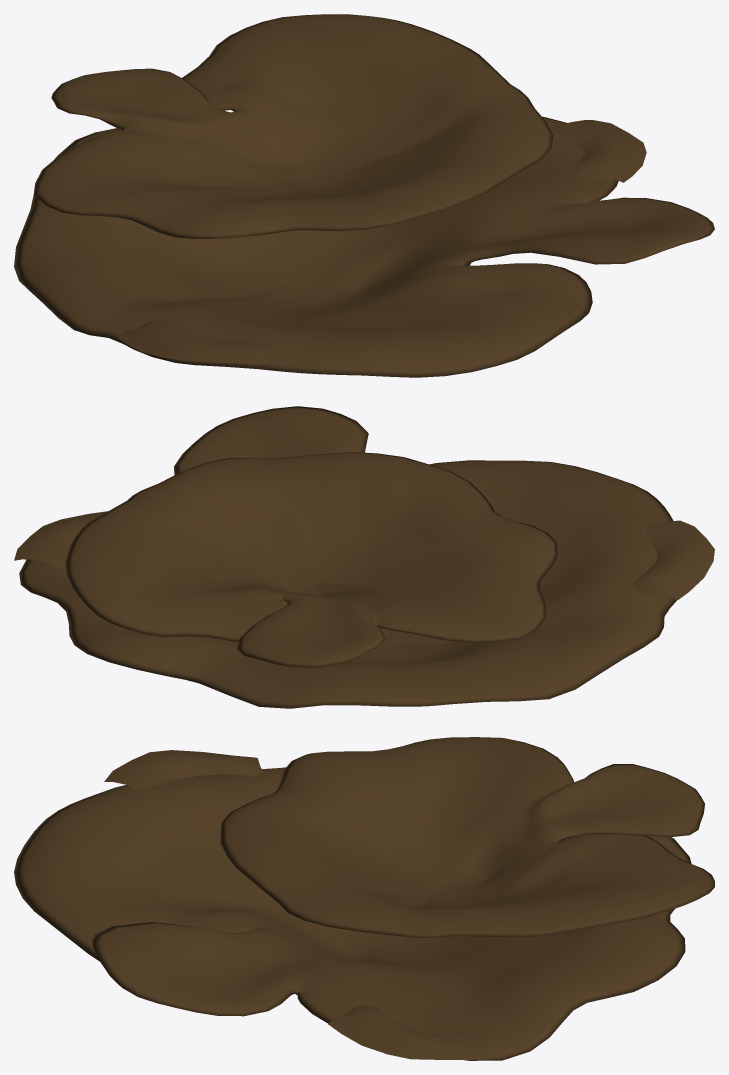
File: SM_Coral_Plate_Montipora_03.obj
3 views of the same model, one above another, from view 1: azimuth 30°, elevation 25°; view 2: azimuth 150°, elevation 25°; view 3: azimuth 270°, elevation 25° (orthographic). The views are drawn at different scales.
Visible parts, largest first — view 1: SM_Coral_Plate_Montipora_03_LOD0; view 2: SM_Coral_Plate_Montipora_03_LOD0; view 3: SM_Coral_Plate_Montipora_03_LOD0.
Boxes of the visible parts, <box> form: SM_Coral_Plate_Montipora_03_LOD0: <box>14,14,714,377</box>; SM_Coral_Plate_Montipora_03_LOD0: <box>14,406,714,708</box>; SM_Coral_Plate_Montipora_03_LOD0: <box>14,737,714,1060</box>.
Size of what is drawn, in the model's own units: 143 by 29.29 by 142.
